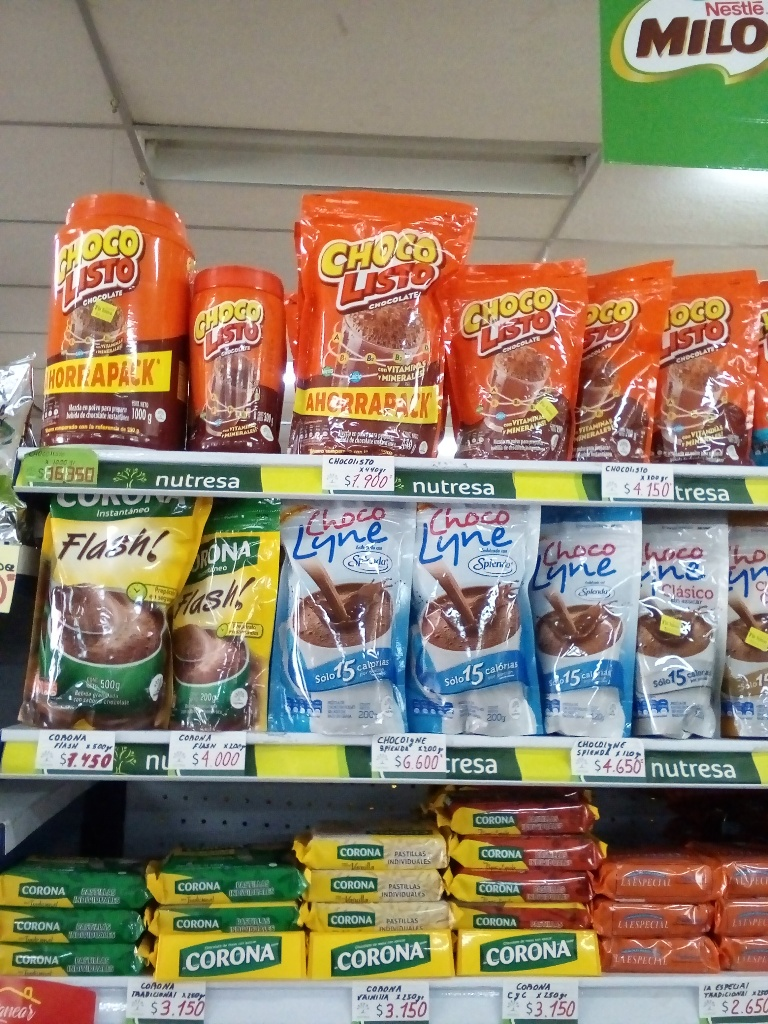COL0170103DYP44000: (303, 196, 477, 452)
COL0170103TRR00100: (25, 184, 188, 448)
